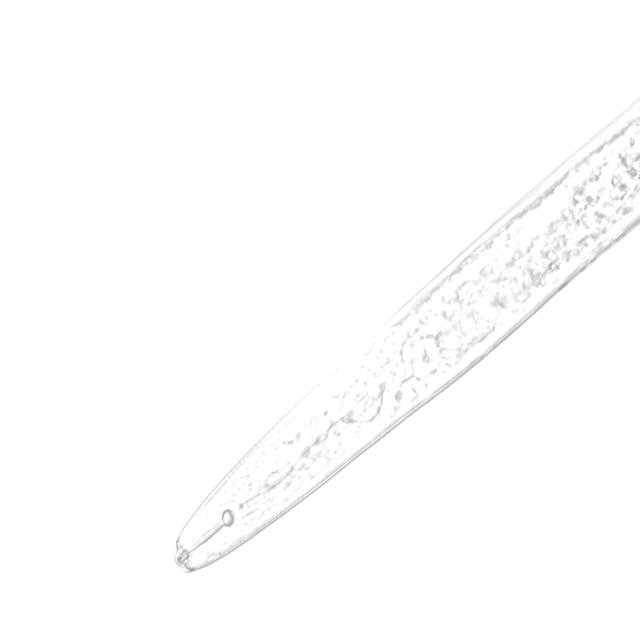Pratylenchus: (163, 97, 640, 580)
